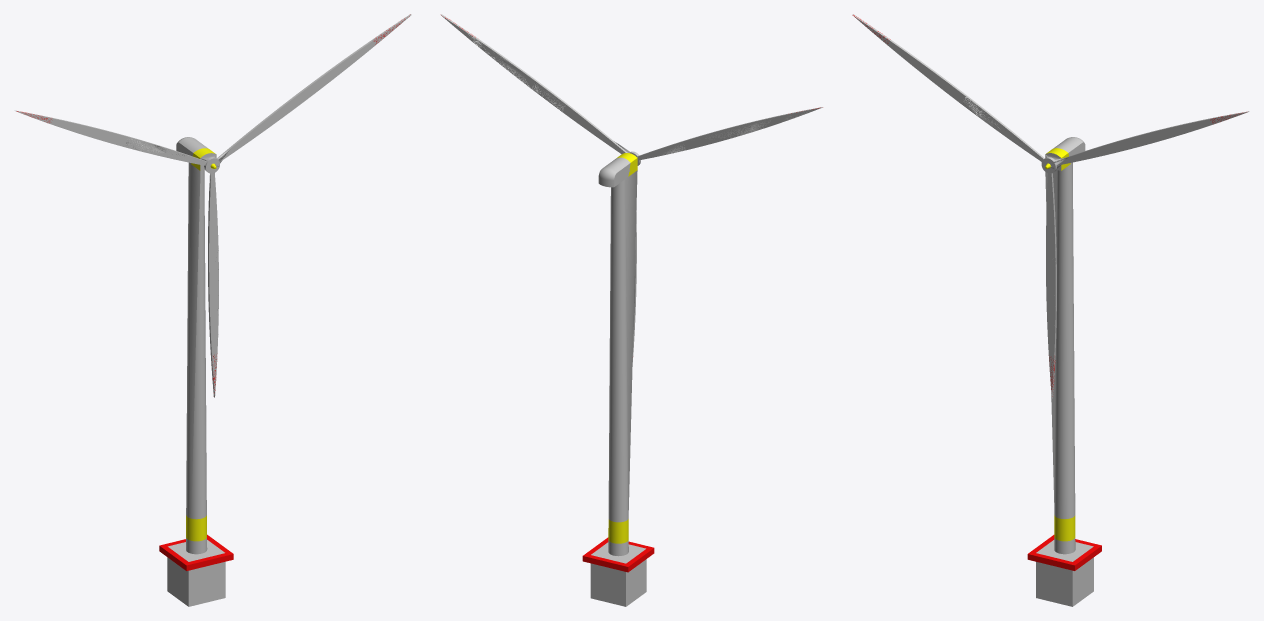
The model's file is Wind Turbine.fbx.
3 renders of one model, left to right at view 1: azimuth 30°, elevation 25°; view 2: azimuth 150°, elevation 25°; view 3: azimuth 330°, elevation 25°, orthographic. The views are drawn at different scales.
Visible parts, largest first — view 1: Wind_Turbine__Lod:1, Wind_Turbine__Lod:0, Propeller__Lod:1, Wind_Turbine__Lod:3, Propeller__Lod:0, Propeller__Lod:3; view 2: Wind_Turbine__Lod:1, Wind_Turbine__Lod:0, Wind_Turbine__Lod:3, Propeller__Lod:1, Propeller__Lod:3, Propeller__Lod:0; view 3: Wind_Turbine__Lod:1, Wind_Turbine__Lod:0, Propeller__Lod:1, Wind_Turbine__Lod:3, Propeller__Lod:0, Propeller__Lod:3.
Part boxes in pixels (x1=…): Wind_Turbine__Lod:1: x1=159, y1=140, x2=233, y2=599; Wind_Turbine__Lod:0: x1=159, y1=137, x2=233, y2=606; Propeller__Lod:1: x1=14, y1=14, x2=411, y2=379; Wind_Turbine__Lod:3: x1=159, y1=142, x2=222, y2=606; Propeller__Lod:0: x1=48, y1=37, x2=380, y2=397; Propeller__Lod:3: x1=52, y1=42, x2=371, y2=356; Wind_Turbine__Lod:1: x1=583, y1=153, x2=654, y2=602; Wind_Turbine__Lod:0: x1=583, y1=153, x2=651, y2=606; Wind_Turbine__Lod:3: x1=582, y1=153, x2=654, y2=606; Propeller__Lod:1: x1=440, y1=14, x2=822, y2=333; Propeller__Lod:3: x1=468, y1=34, x2=819, y2=307; Propeller__Lod:0: x1=479, y1=39, x2=790, y2=361; Wind_Turbine__Lod:1: x1=1027, y1=138, x2=1101, y2=602; Wind_Turbine__Lod:0: x1=1028, y1=137, x2=1101, y2=606; Propeller__Lod:1: x1=852, y1=14, x2=1249, y2=398; Wind_Turbine__Lod:3: x1=1027, y1=139, x2=1101, y2=606; Propeller__Lod:0: x1=886, y1=36, x2=1217, y2=398; Propeller__Lod:3: x1=853, y1=15, x2=1207, y2=325.
Bounding box in the file's own units: 739 × 967 × 106.
